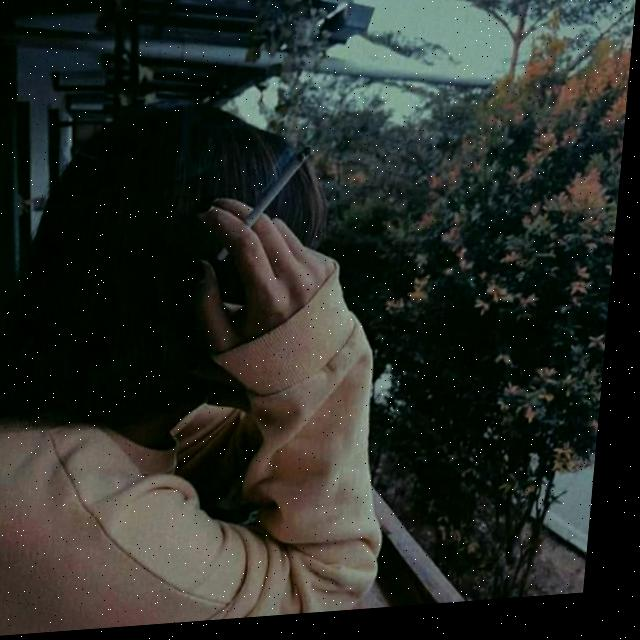cigarette: (220, 149, 316, 266)
